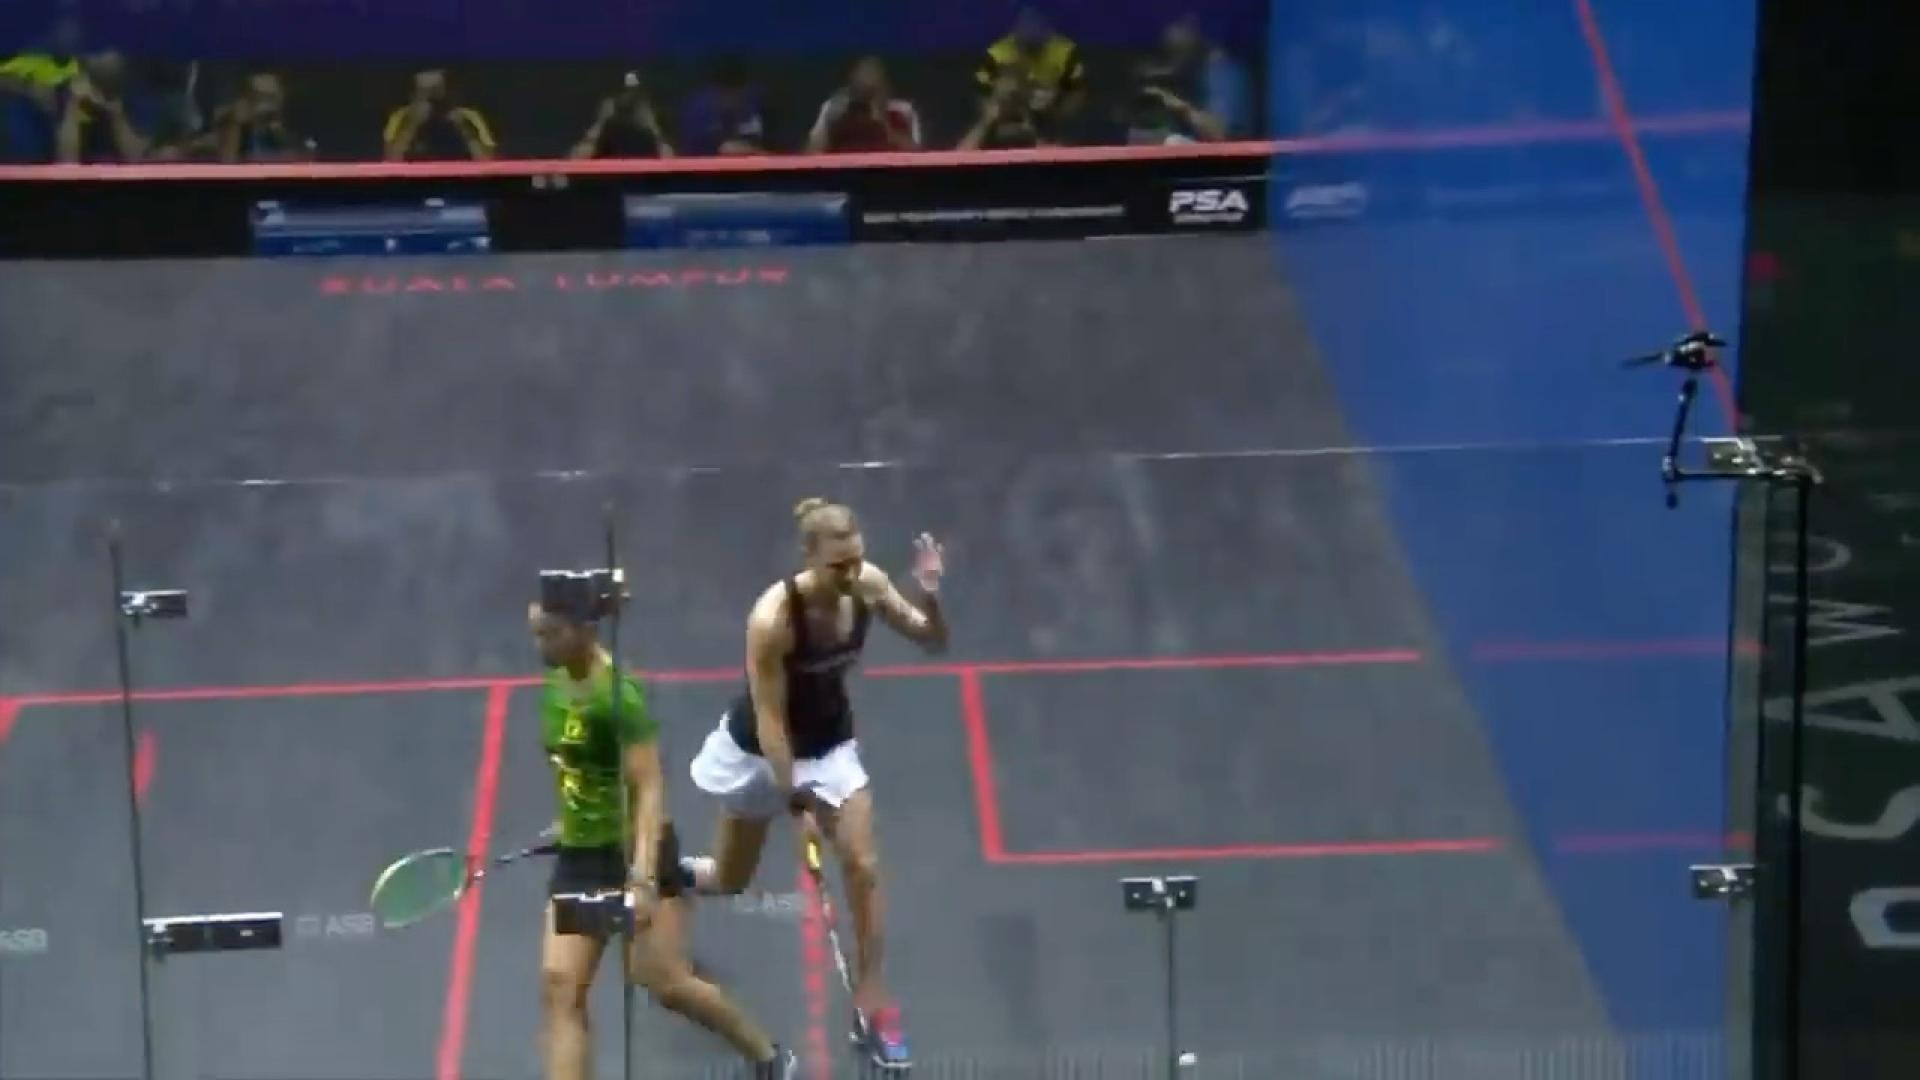Squash-Ball: (1163, 1039, 1216, 1080)
